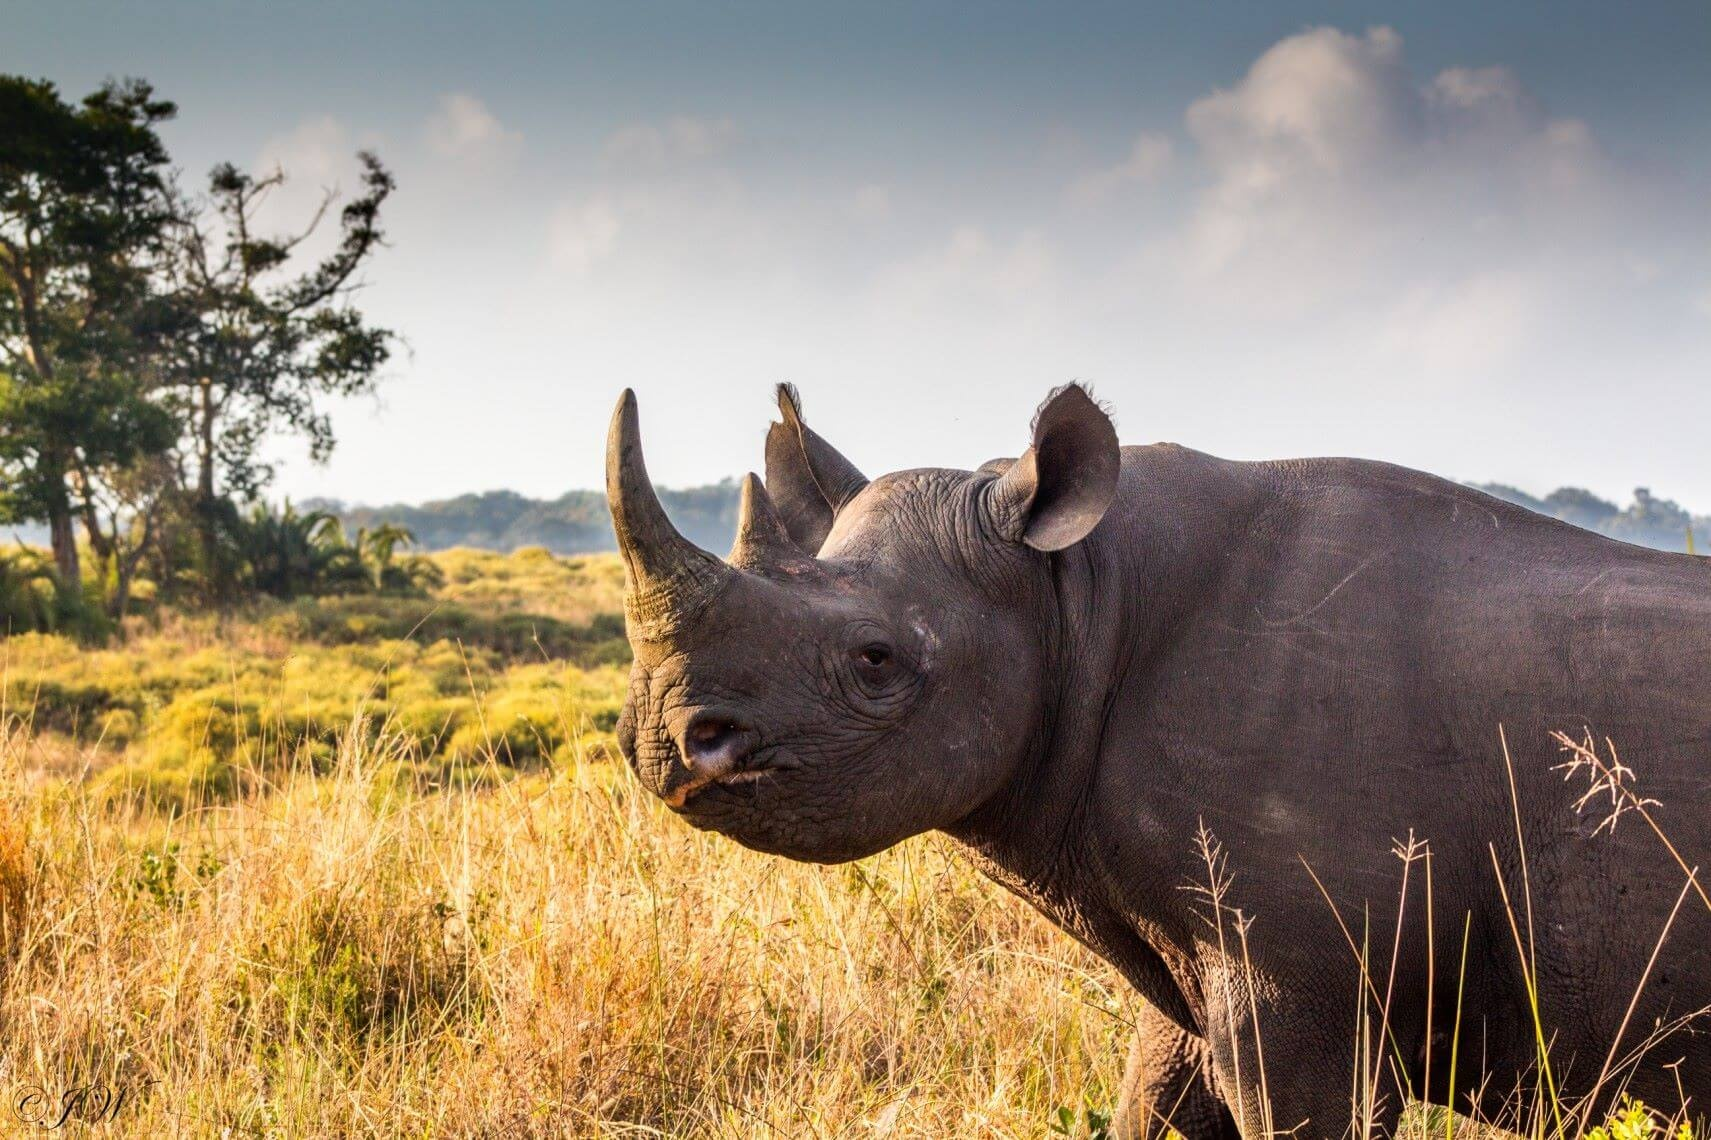rhino: (598, 379, 1711, 1132)
